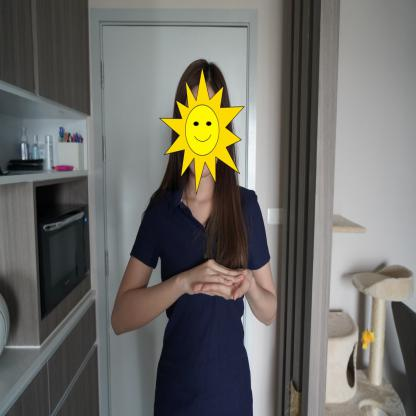Love: (174, 241, 260, 318)
